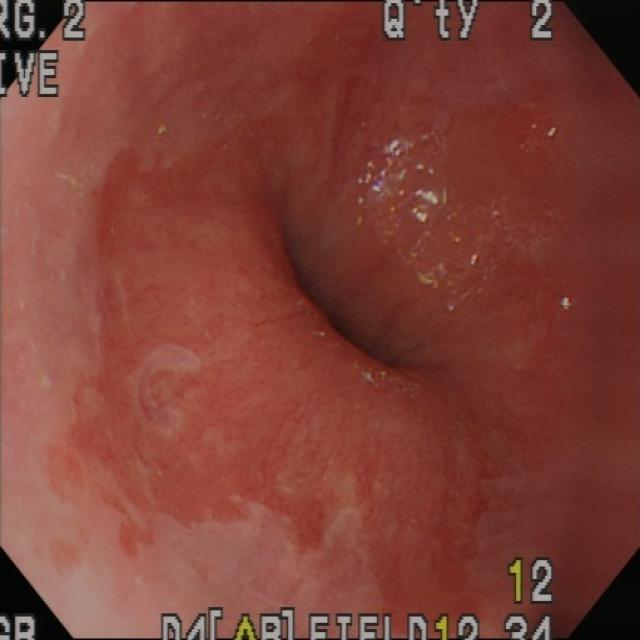E: (263, 200, 451, 414)
I: (20, 267, 174, 569), (61, 64, 265, 255), (178, 455, 394, 599)
S: (160, 608, 483, 640), (383, 3, 558, 45), (3, 3, 83, 45), (3, 50, 63, 101), (507, 558, 556, 608), (506, 614, 556, 640), (2, 614, 39, 640)
U: (355, 126, 447, 236), (415, 252, 485, 316), (362, 367, 427, 399), (530, 117, 560, 142), (559, 294, 574, 313)
